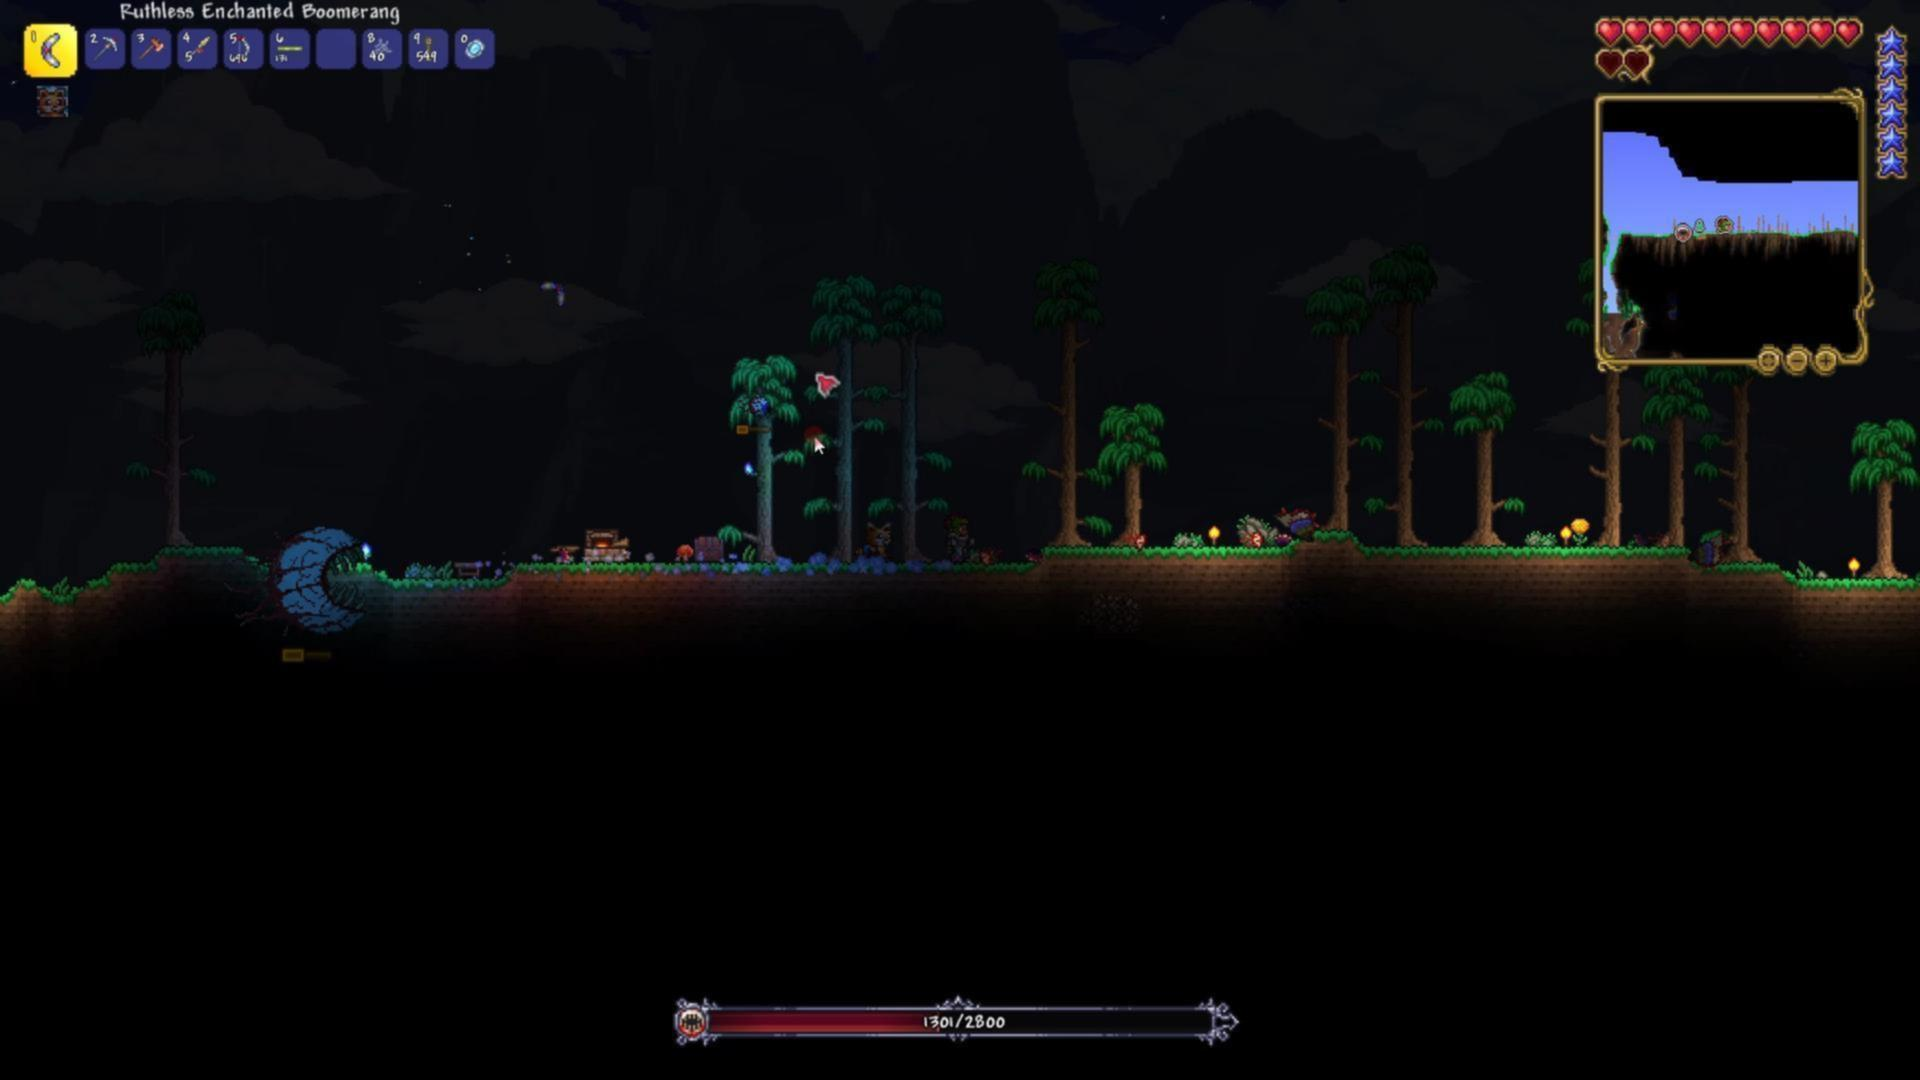anvil: (546, 535, 584, 576)
axe: (135, 36, 165, 61)
chest: (690, 530, 733, 563)
cobwebI: (369, 38, 394, 61)
eye: (738, 384, 779, 431)
eyeC: (240, 518, 386, 657)
furnace: (579, 526, 637, 568)
tree: (1564, 371, 1667, 560), (1444, 363, 1522, 564), (1636, 352, 1701, 567)
